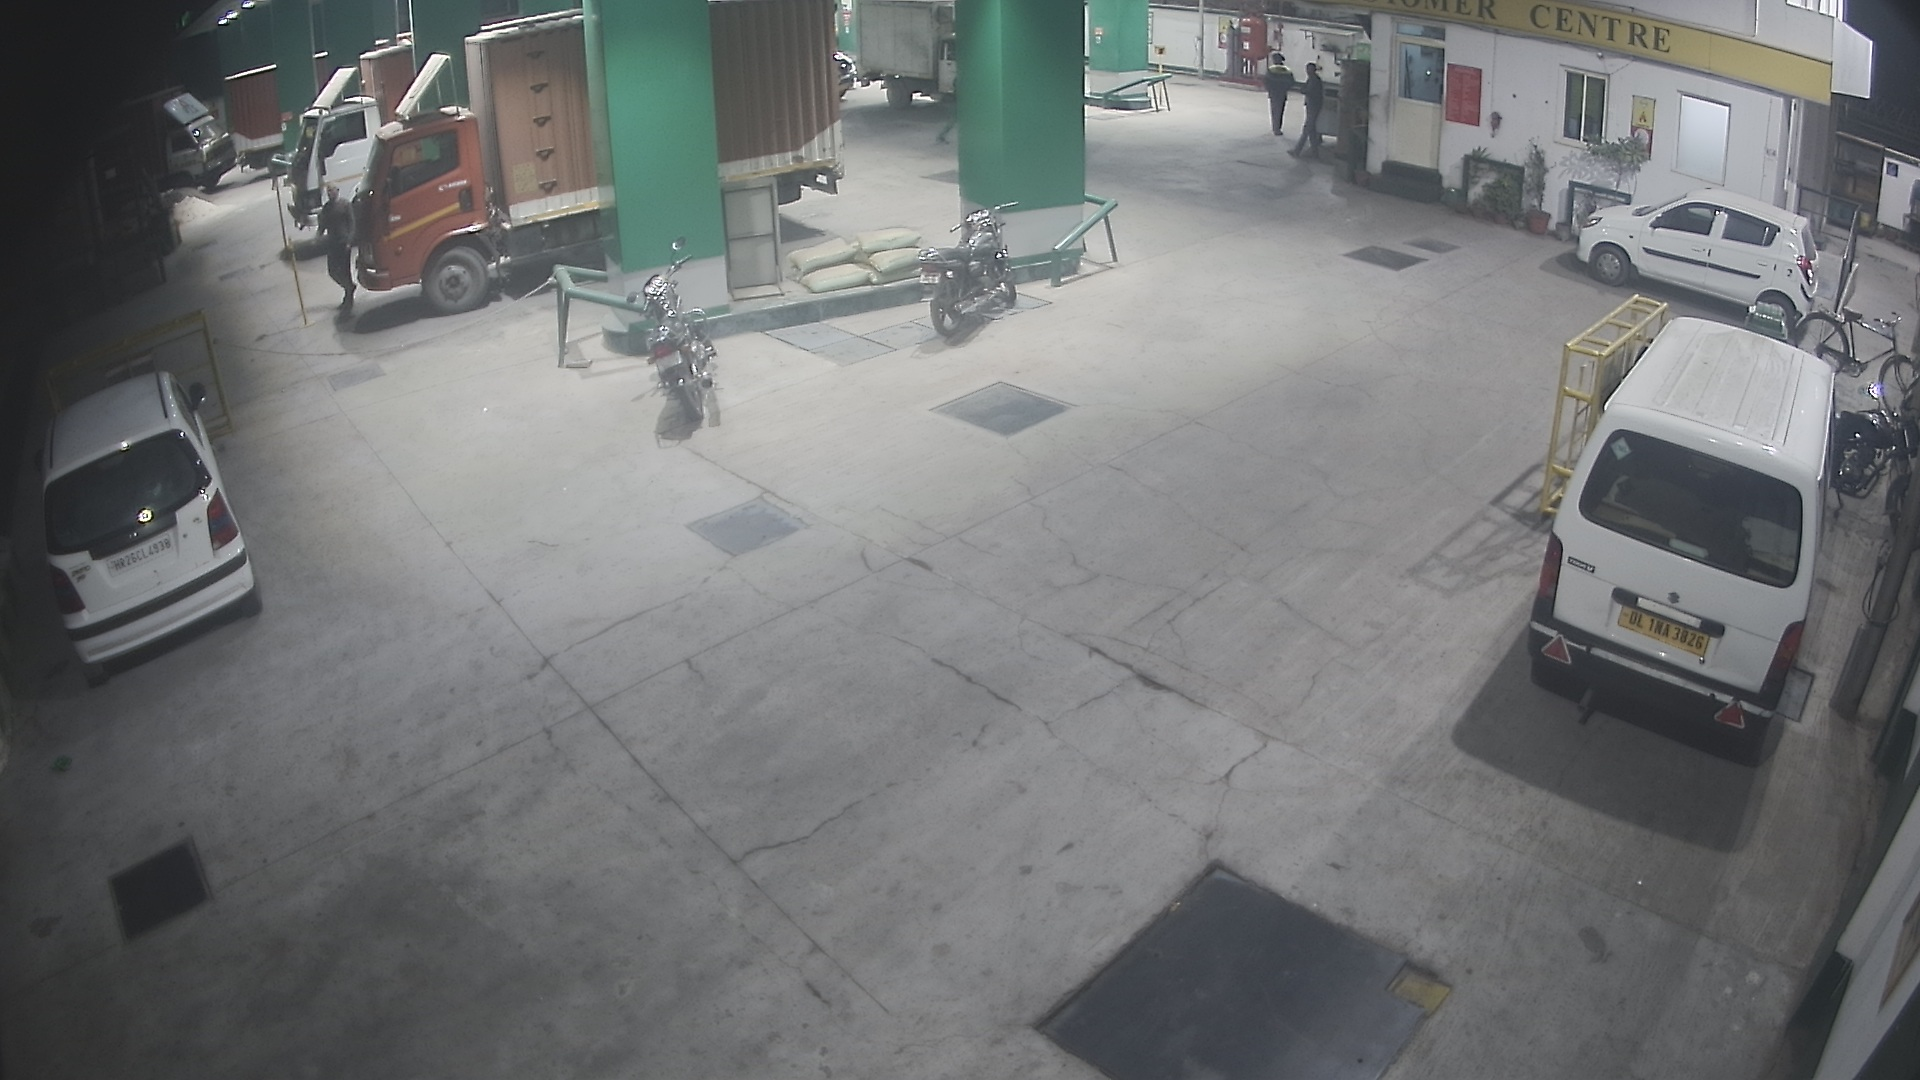Bike: (605, 227, 740, 440), (887, 189, 1044, 363), (1797, 365, 1913, 526)
Car: (1510, 315, 1890, 749), (9, 334, 270, 690), (1556, 166, 1828, 327), (807, 15, 876, 131)
HMV: (305, 0, 637, 339), (257, 17, 444, 266), (33, 69, 247, 215), (195, 33, 305, 204), (840, 0, 982, 131)
Others Other: (281, 210, 322, 349), (262, 158, 306, 284), (1151, 33, 1178, 127)
